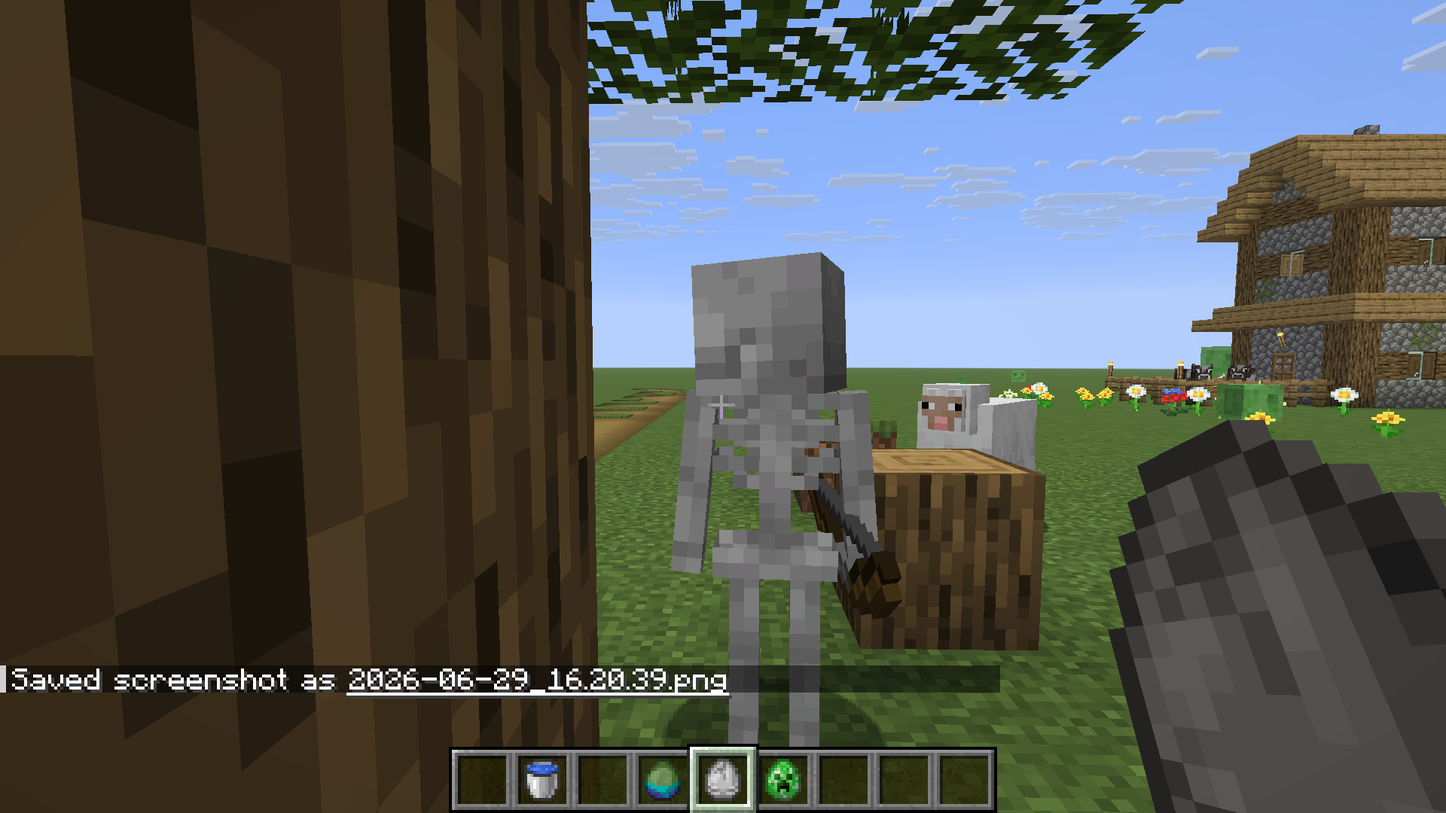Sheep: (914, 369, 1054, 452)
skeleton: (663, 246, 900, 744)
